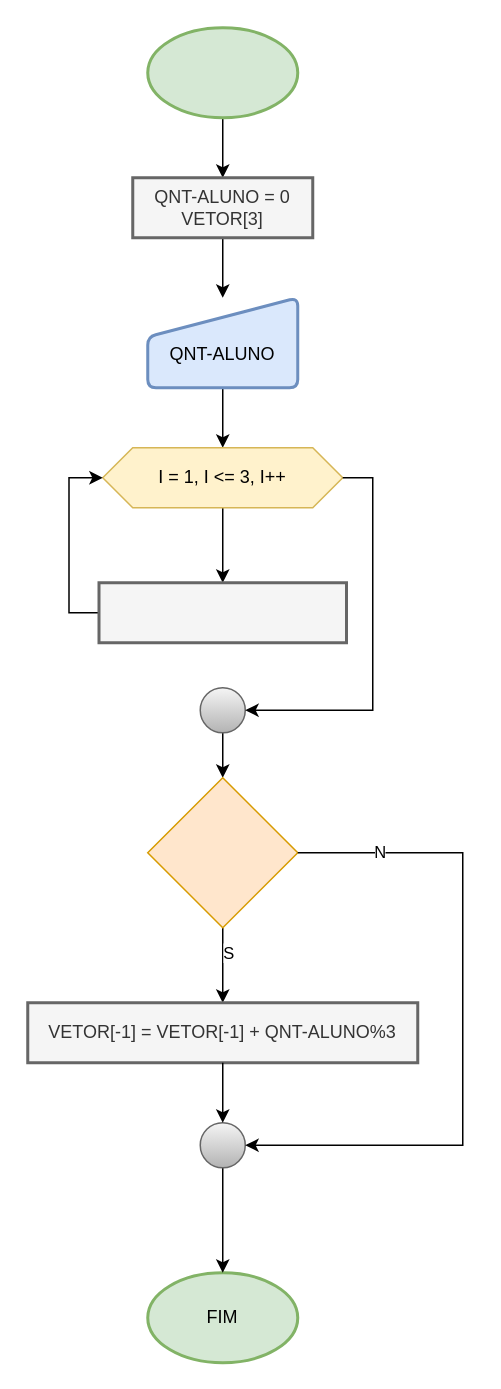
This 501x1389 diagram has some shape labels left out. Each missing label, with the centre of its shape:
"INICIO" belongs at point 222,72.
"QNT-ALUNO % 3 <> 0" belongs at point 222,852.
"VETOR[I] = QNT-ALUNO // 3" belongs at point 222,612.
